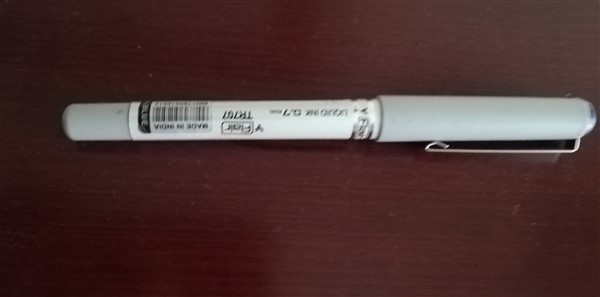pilot kalem: (57, 94, 600, 159)
